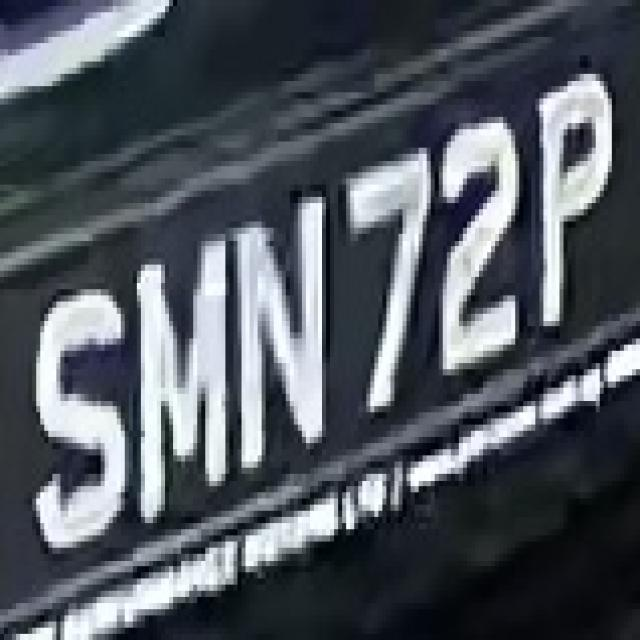2: (435, 98, 515, 424)
7: (338, 141, 435, 437)
M: (116, 228, 238, 523)
N: (238, 178, 334, 480)
P: (531, 49, 616, 345)
S: (40, 265, 125, 560)
